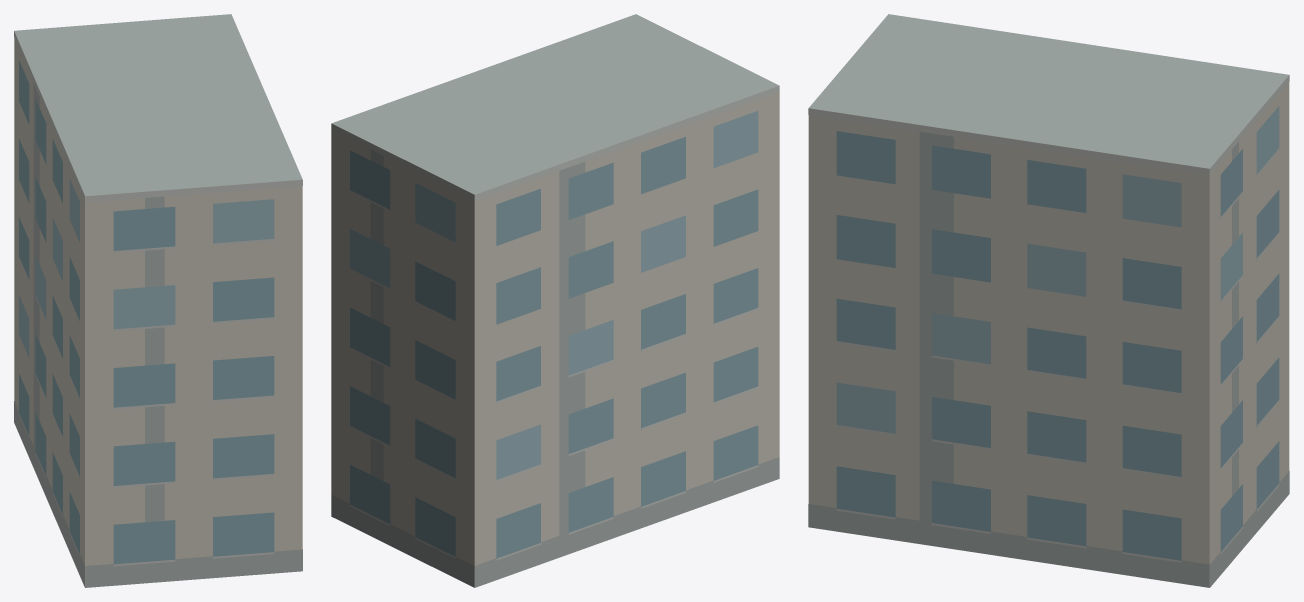
The model's file is residential-40fc5906-efdb-4497-ace7-f67427cc1d0a.glb.
The picture shows the model from 3 angles, left to right: view 1: azimuth 30°, elevation 25°; view 2: azimuth 150°, elevation 25°; view 3: azimuth 270°, elevation 25°; orthographic projection. The views are drawn at different scales.
Visible parts, largest first — view 1: residential-40fc5906-efdb-4497-ace7-f67427cc1d0a.tmp; view 2: residential-40fc5906-efdb-4497-ace7-f67427cc1d0a.tmp; view 3: residential-40fc5906-efdb-4497-ace7-f67427cc1d0a.tmp.
Part boxes in pixels (x1,y1,x2,y2): residential-40fc5906-efdb-4497-ace7-f67427cc1d0a.tmp: (14, 14, 302, 587); residential-40fc5906-efdb-4497-ace7-f67427cc1d0a.tmp: (331, 14, 779, 587); residential-40fc5906-efdb-4497-ace7-f67427cc1d0a.tmp: (808, 14, 1289, 587).
Bounding box in the file's own units: 12.09 × 15.25 × 15.87.
